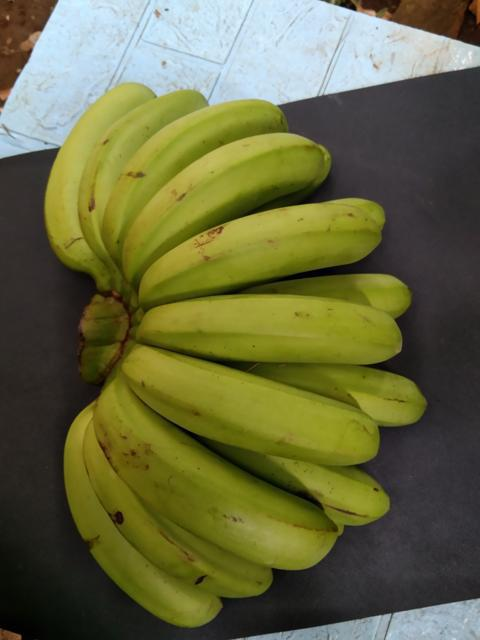freshunripe: (56, 395, 230, 631), (119, 344, 386, 467), (40, 76, 150, 269), (133, 293, 408, 356)
unripe: (72, 397, 339, 579), (140, 197, 389, 294)
